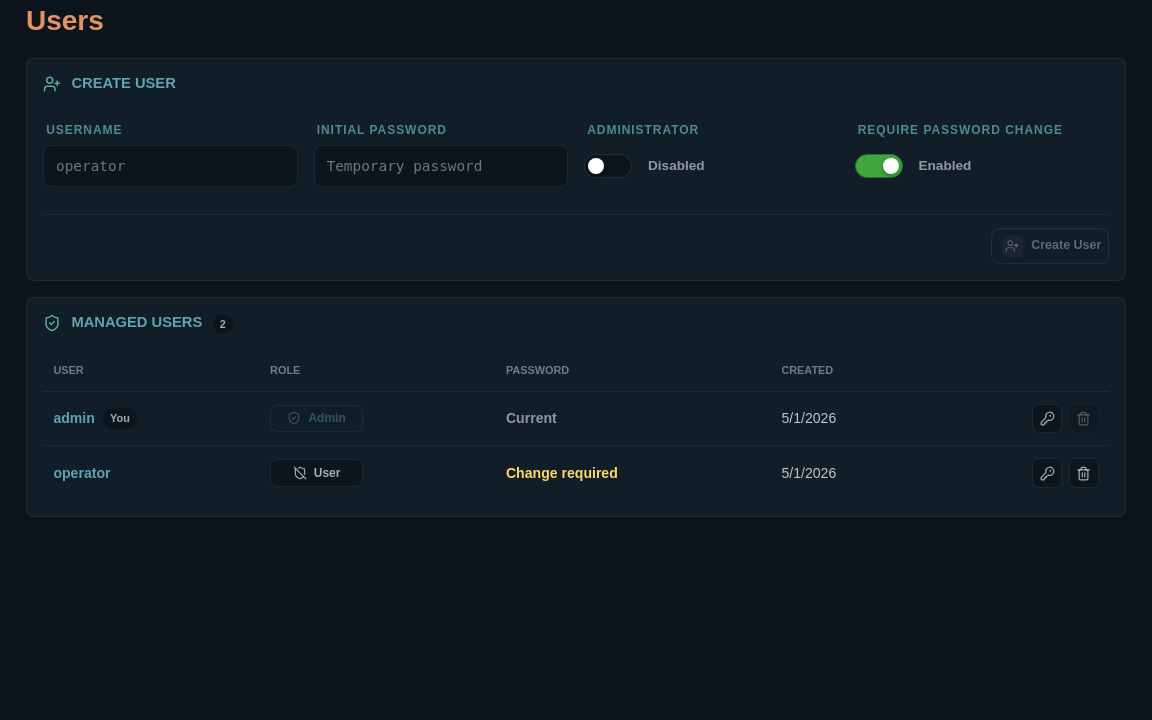
Test: users page › creates a user
Expected: the text "operator" is shown, 53,462 -> 110,484
Type "builder" into the field labelled "Username" at coordinates (170, 166), box 56,146 -> 284,186
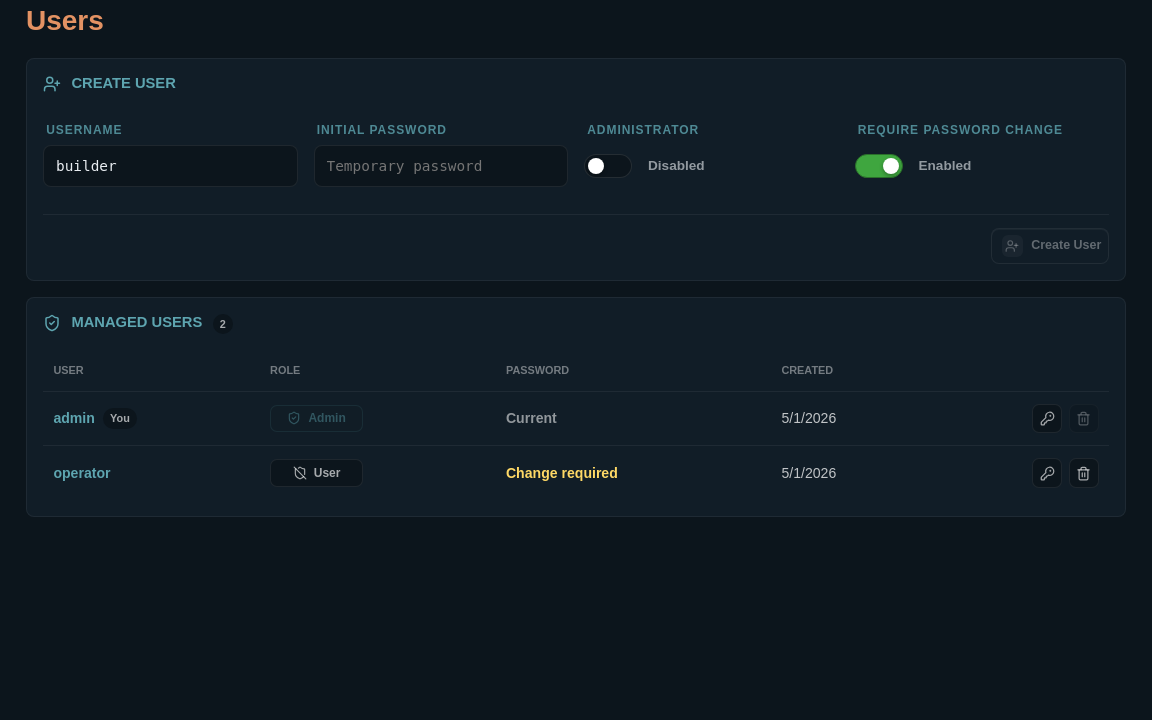
Type "generated-password" into the password field labelled "Initial Password" at coordinates (441, 166), box 326,146 -> 555,186
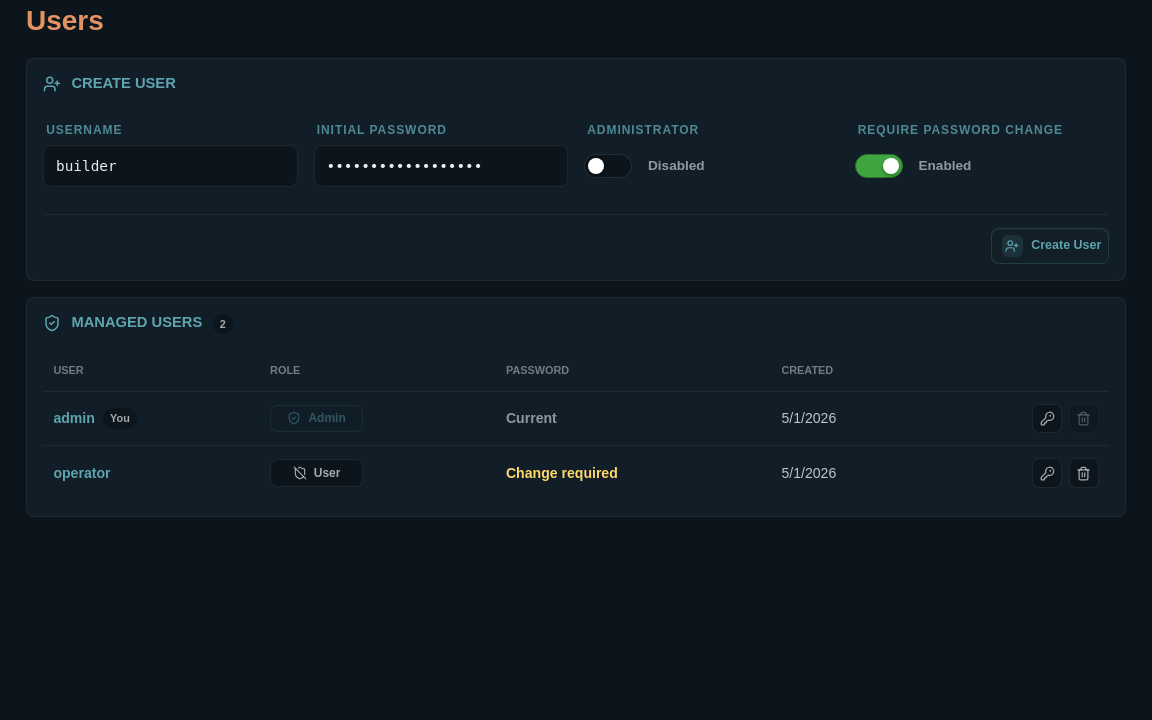
Click the button "Create User" at coordinates (1050, 246), box 991,228 -> 1109,264
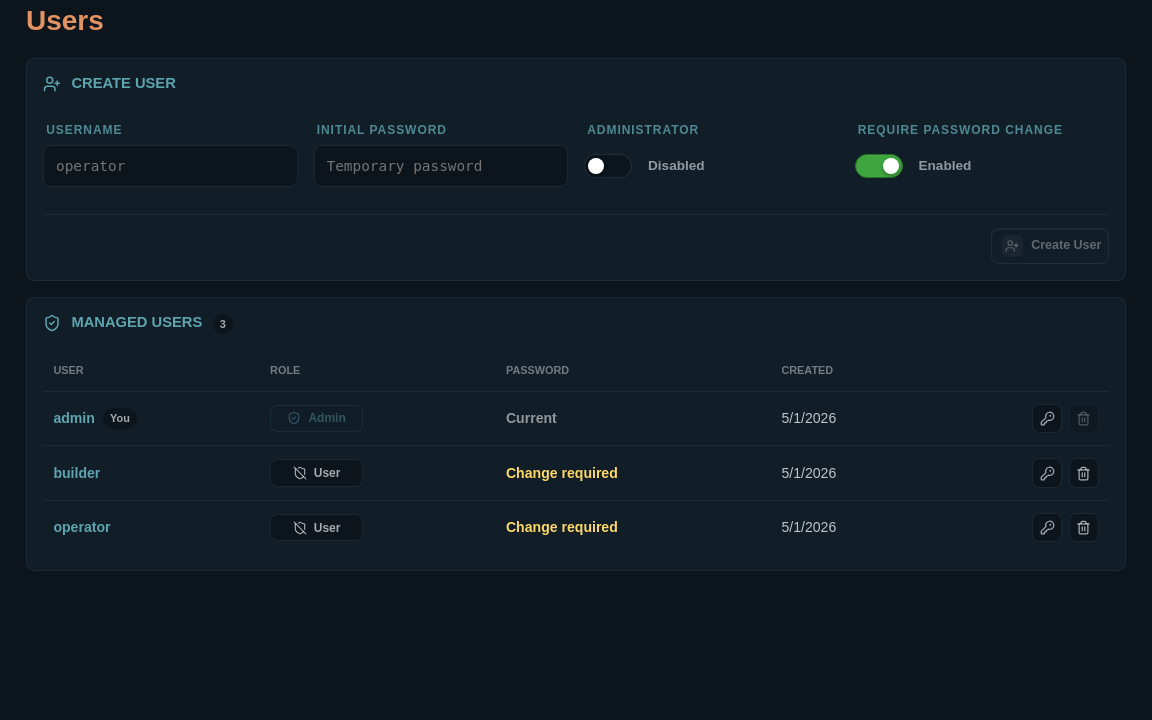
Result: the text "builder" is shown at 53,462 -> 100,484
